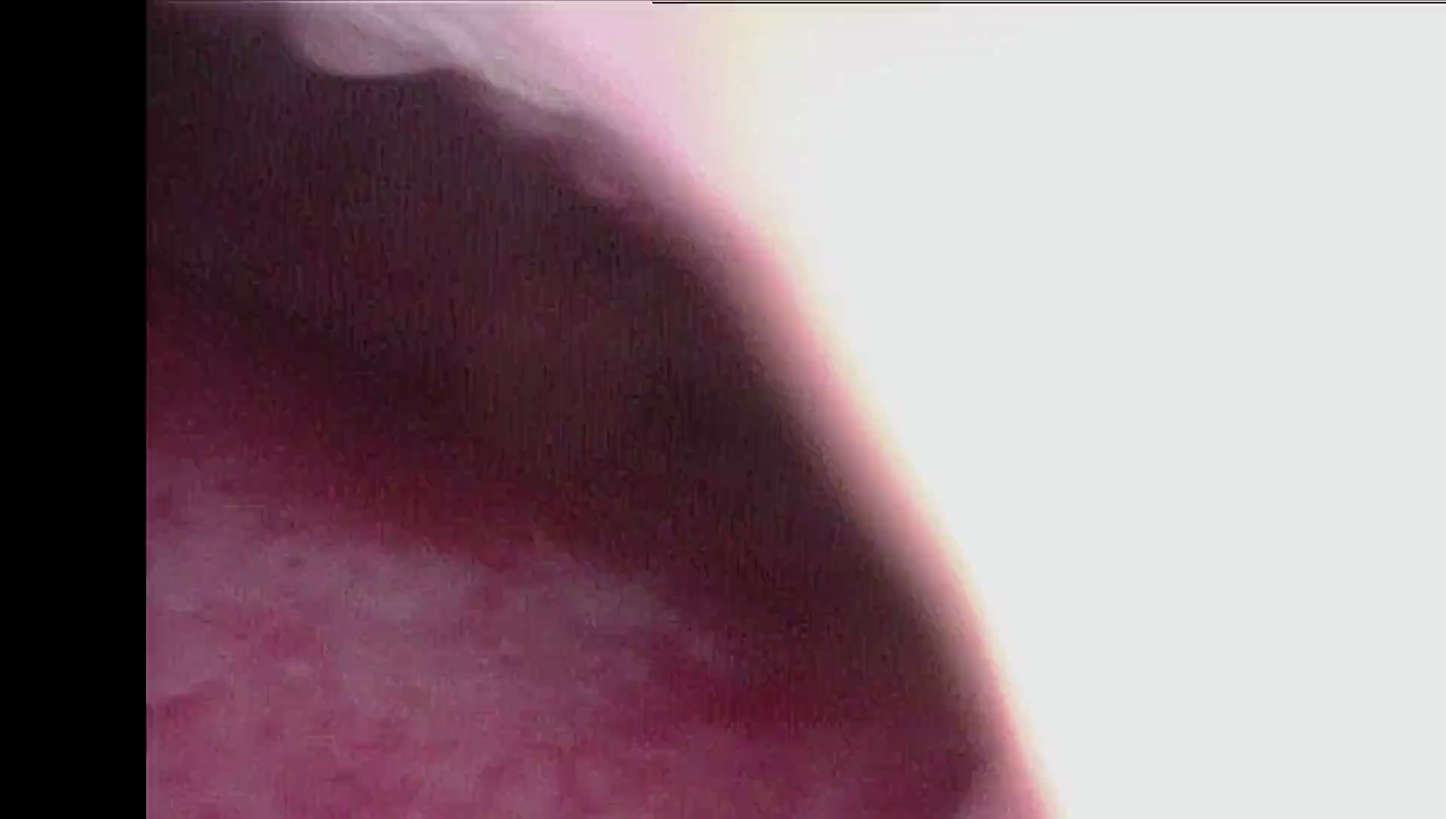close_wall: (681, 5, 1446, 819)
